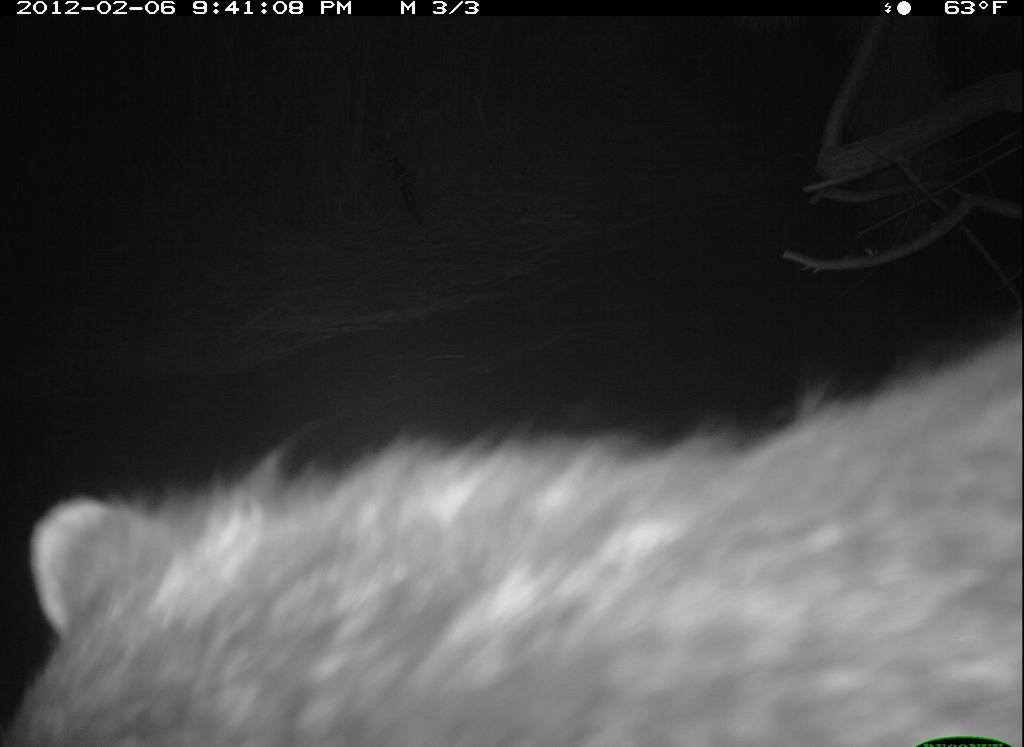raccoon: (1, 329, 1018, 747)
